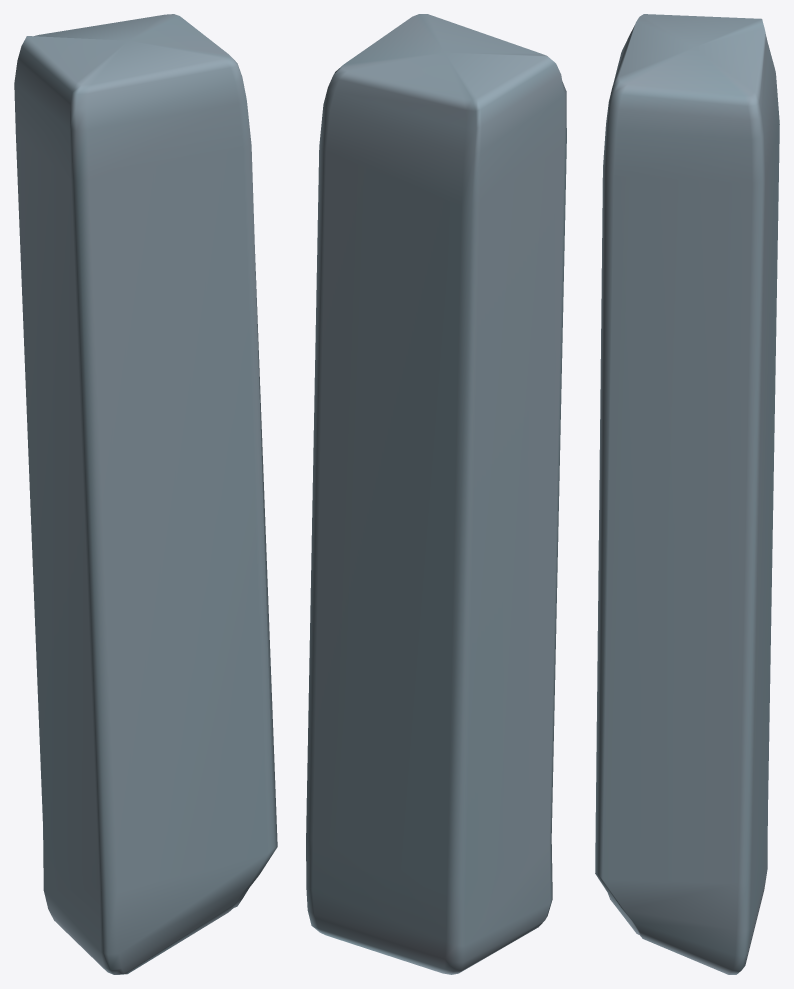
The model's file is SM_GateStoop_A.glb.
3 views of the same model, side by side, from view 1: azimuth 30°, elevation 25°; view 2: azimuth 150°, elevation 25°; view 3: azimuth 270°, elevation 25° (orthographic).
Visible parts, largest first — view 1: SM_GateStoop_A; view 2: SM_GateStoop_A; view 3: SM_GateStoop_A.
Part boxes in pixels (x1,y1,x2,y2): SM_GateStoop_A: (14,14,277,974); SM_GateStoop_A: (306,14,566,974); SM_GateStoop_A: (595,14,779,974).
Size of the model in its own units: 0.4536 by 1.9 by 0.3616.
